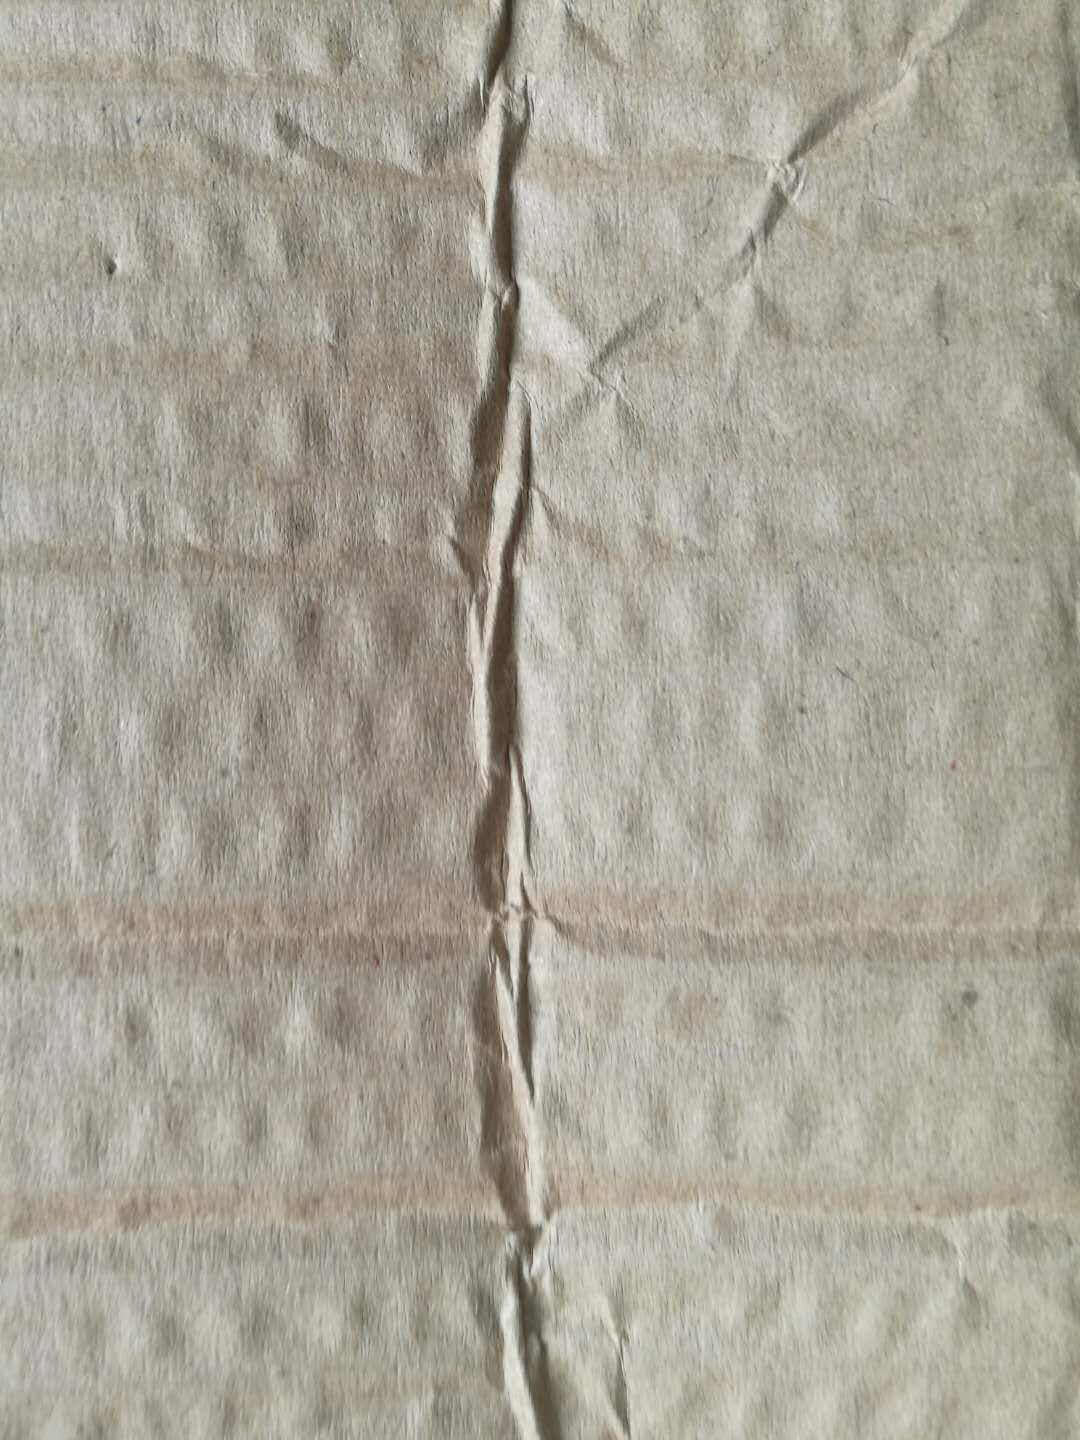defect: (315, 2, 1073, 1440), (3, 33, 1080, 266), (5, 842, 1080, 1037), (2, 442, 1080, 632), (2, 1138, 1074, 1316)
